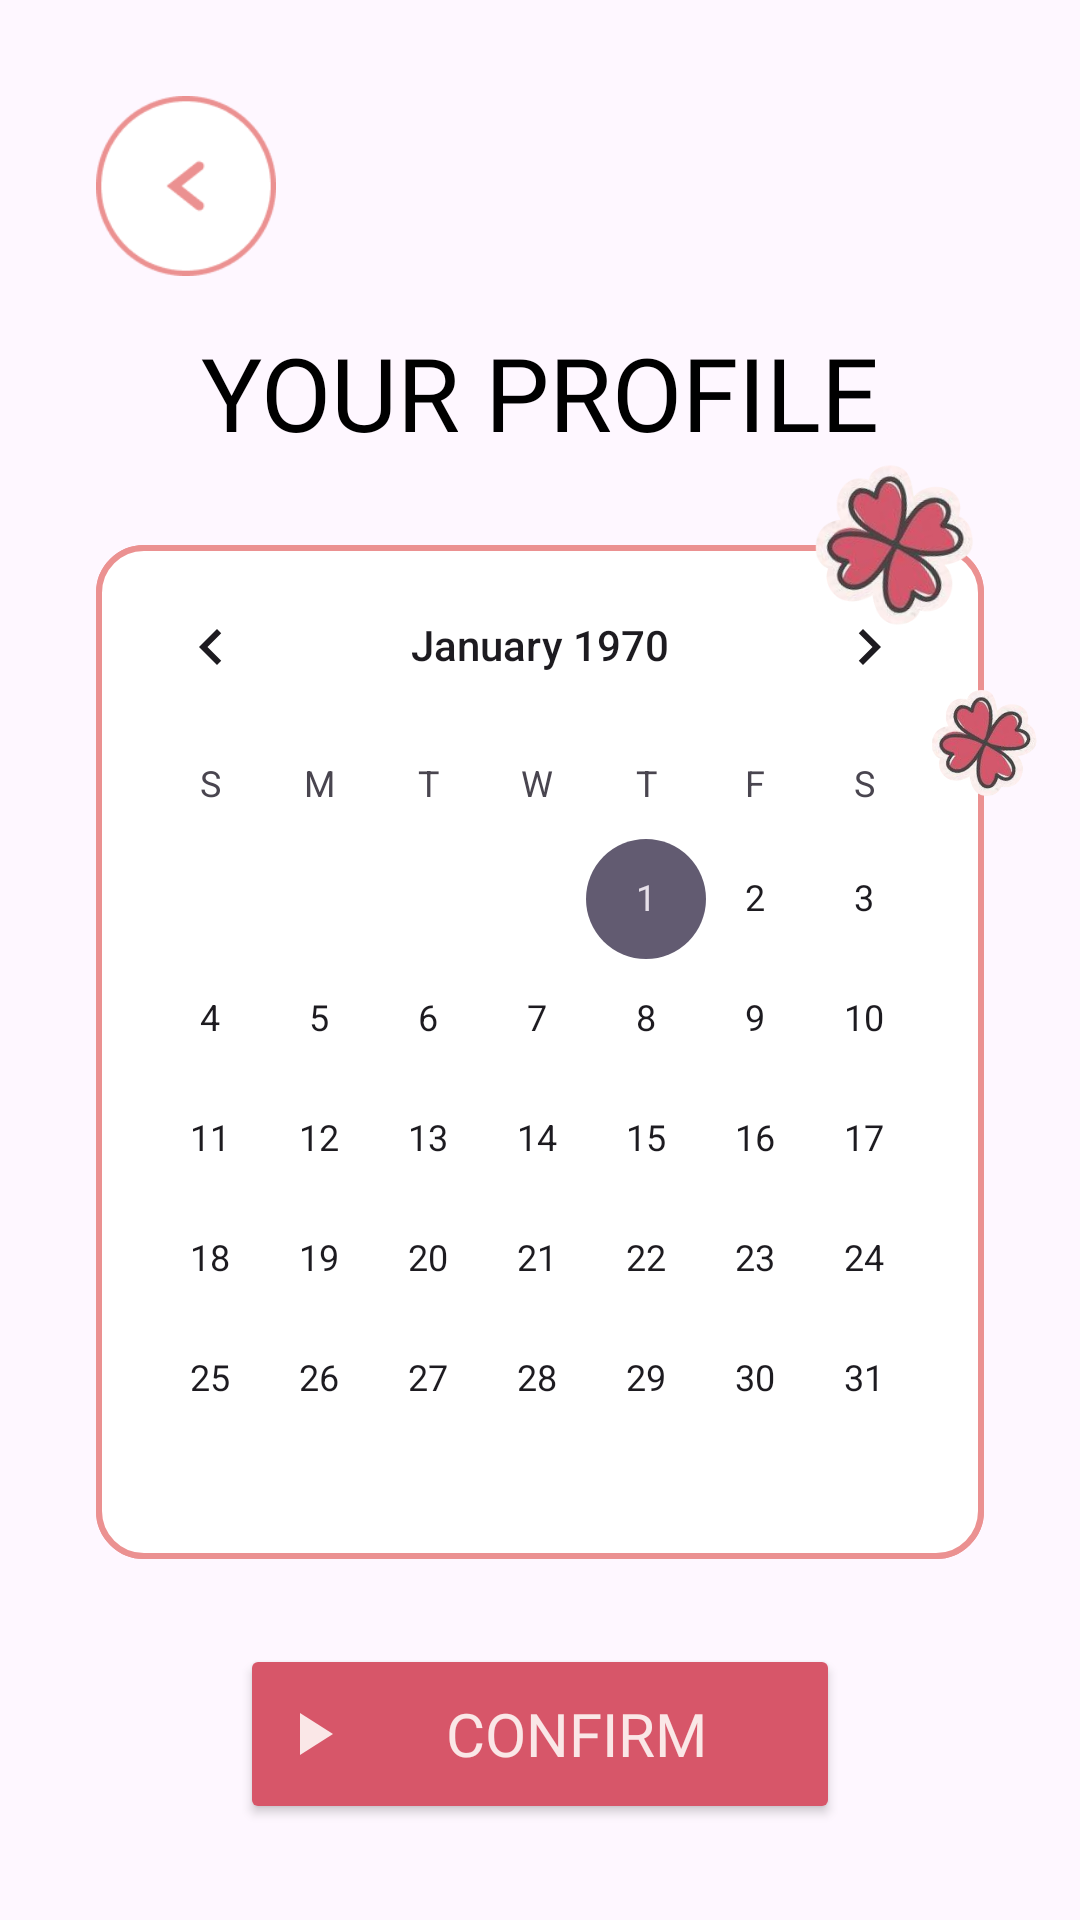

Icon bounding boxes for this 1080 × 1920 phone screenshot, format (x1, y1, x2, y2):
back: (96, 96, 276, 276)
flower: (817, 474, 970, 617), (933, 696, 1034, 791)
